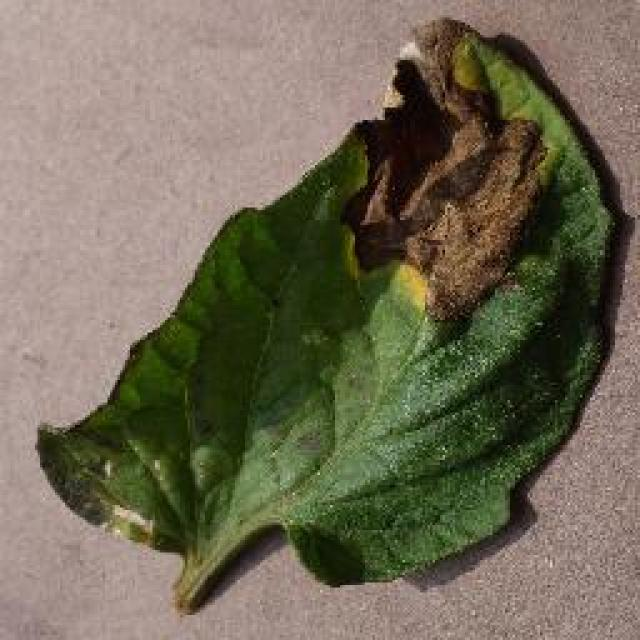leaf blight: (31, 12, 617, 610)
